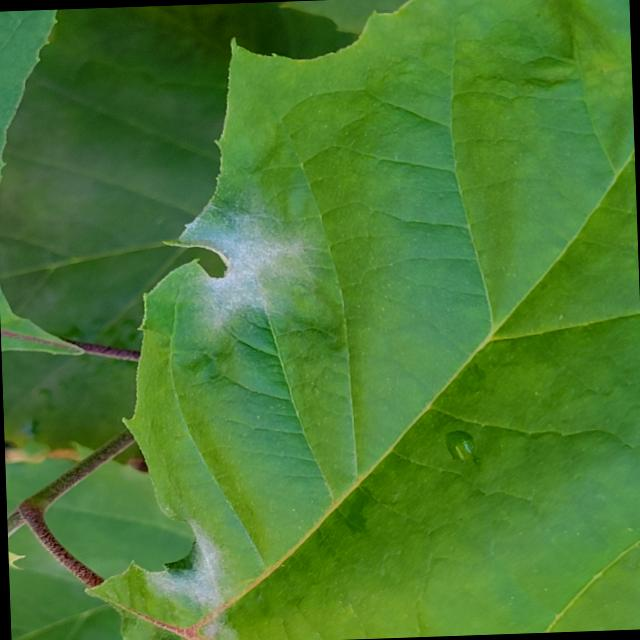powdery_mildew: (91, 0, 640, 640)
